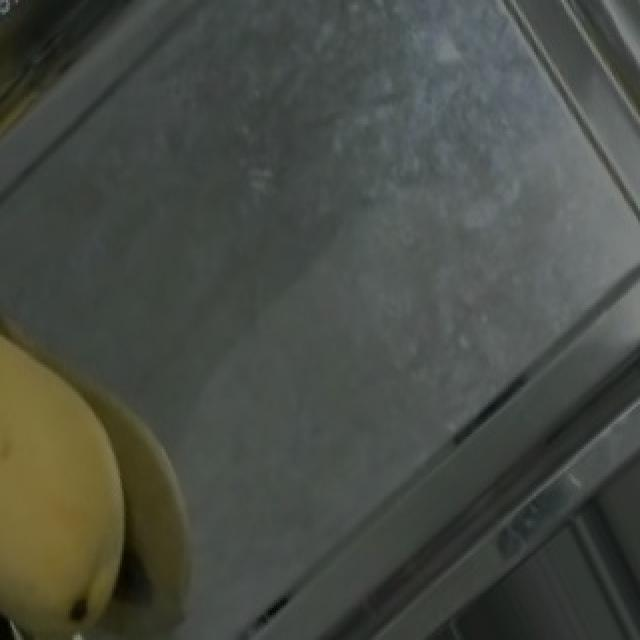fruit: (0, 285, 208, 640)
